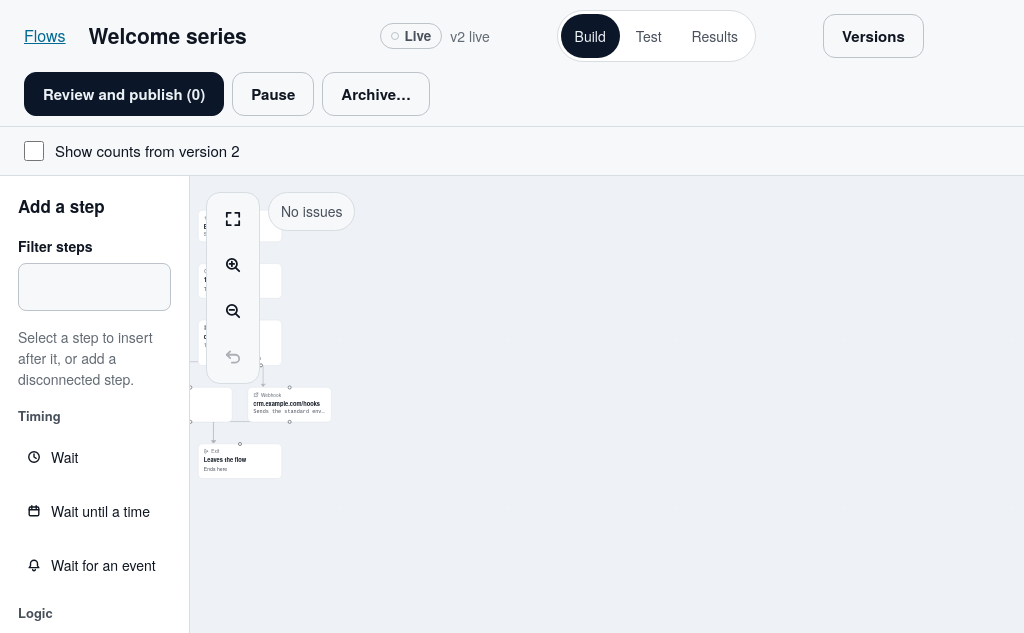
Test: pause and resume › refetches and says so when the state changed elsewhere
Click the button "Pause": (273, 94) [232, 72, 314, 116]
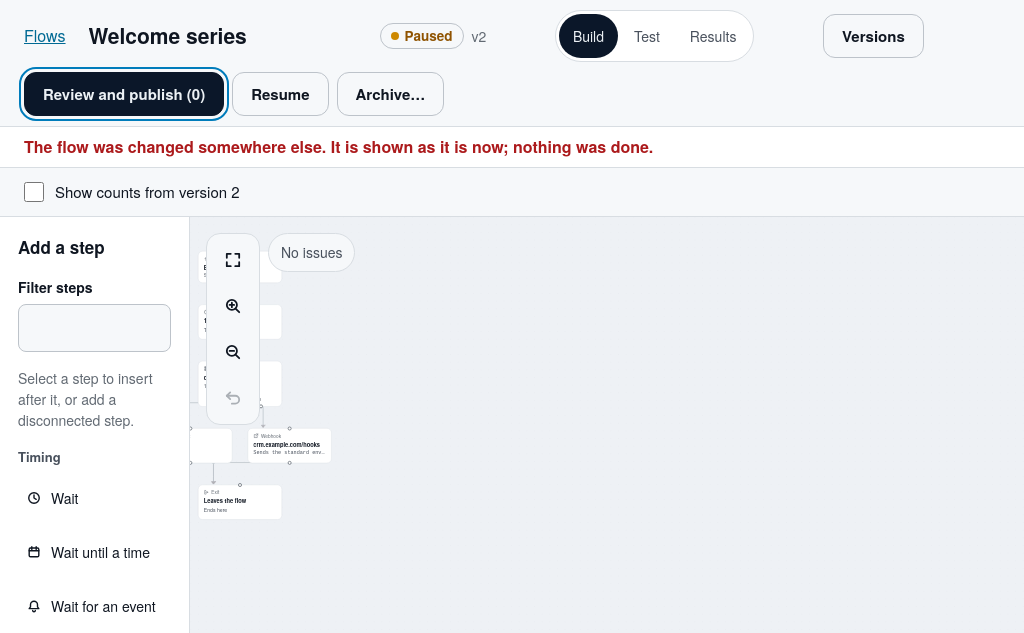
Result: the 1st message shows "changed somewhere else" at [24, 135, 653, 158]
Result: the text "Paused" is shown at [380, 23, 464, 49]
Result: the button "Resume" is shown at [232, 72, 329, 116]
